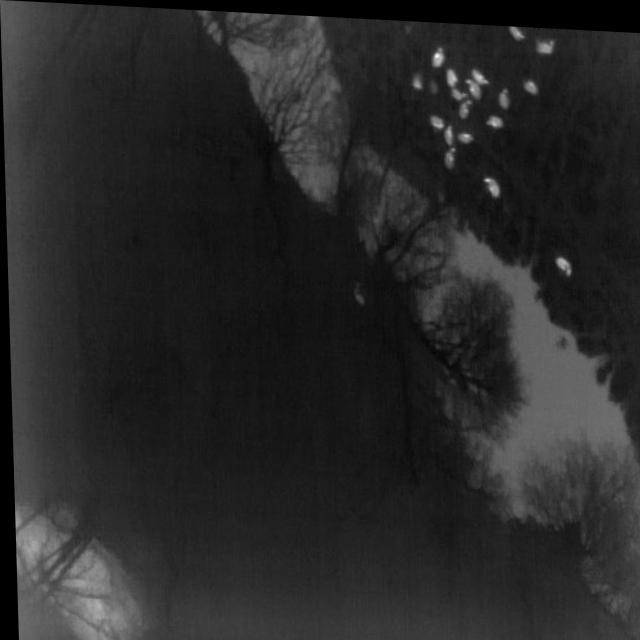deer: (552, 249, 570, 271), (482, 172, 500, 193), (351, 277, 365, 303), (465, 74, 482, 94), (431, 42, 445, 64), (537, 32, 555, 49), (443, 142, 456, 165), (471, 64, 488, 80), (458, 95, 471, 114), (522, 74, 538, 89), (498, 83, 509, 104), (446, 64, 458, 83), (509, 21, 525, 35), (443, 120, 453, 141), (484, 111, 503, 122), (456, 127, 474, 138), (429, 111, 443, 125), (451, 84, 467, 95), (412, 68, 422, 85)
